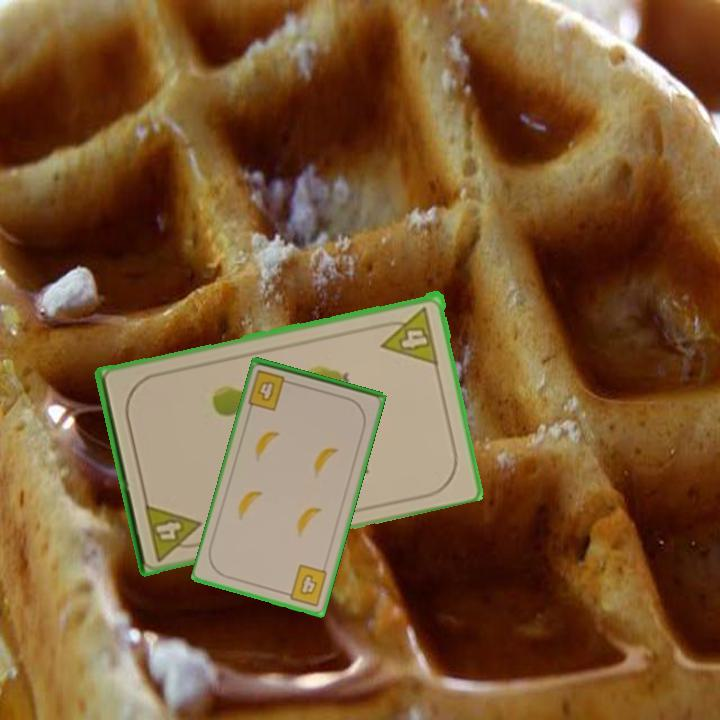4b: (280, 561, 331, 609), (244, 367, 296, 414)
4p: (141, 499, 209, 564), (375, 302, 441, 366)
